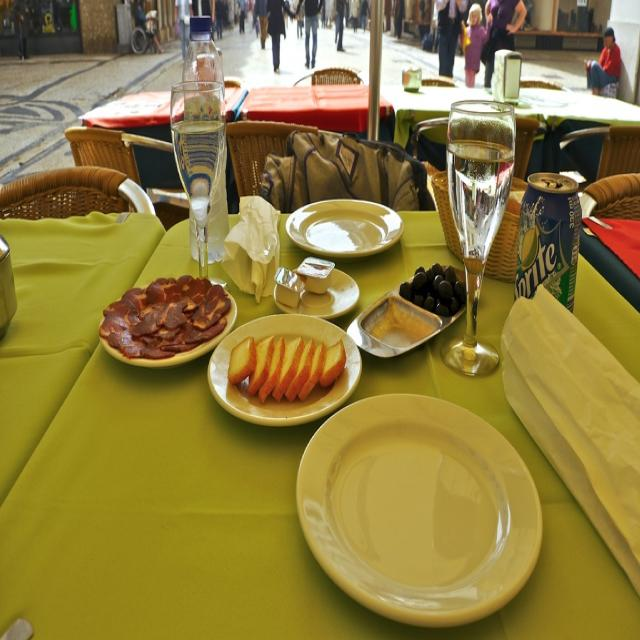non-organic waste: (300, 390, 538, 616), (218, 291, 348, 447), (282, 200, 403, 282)
